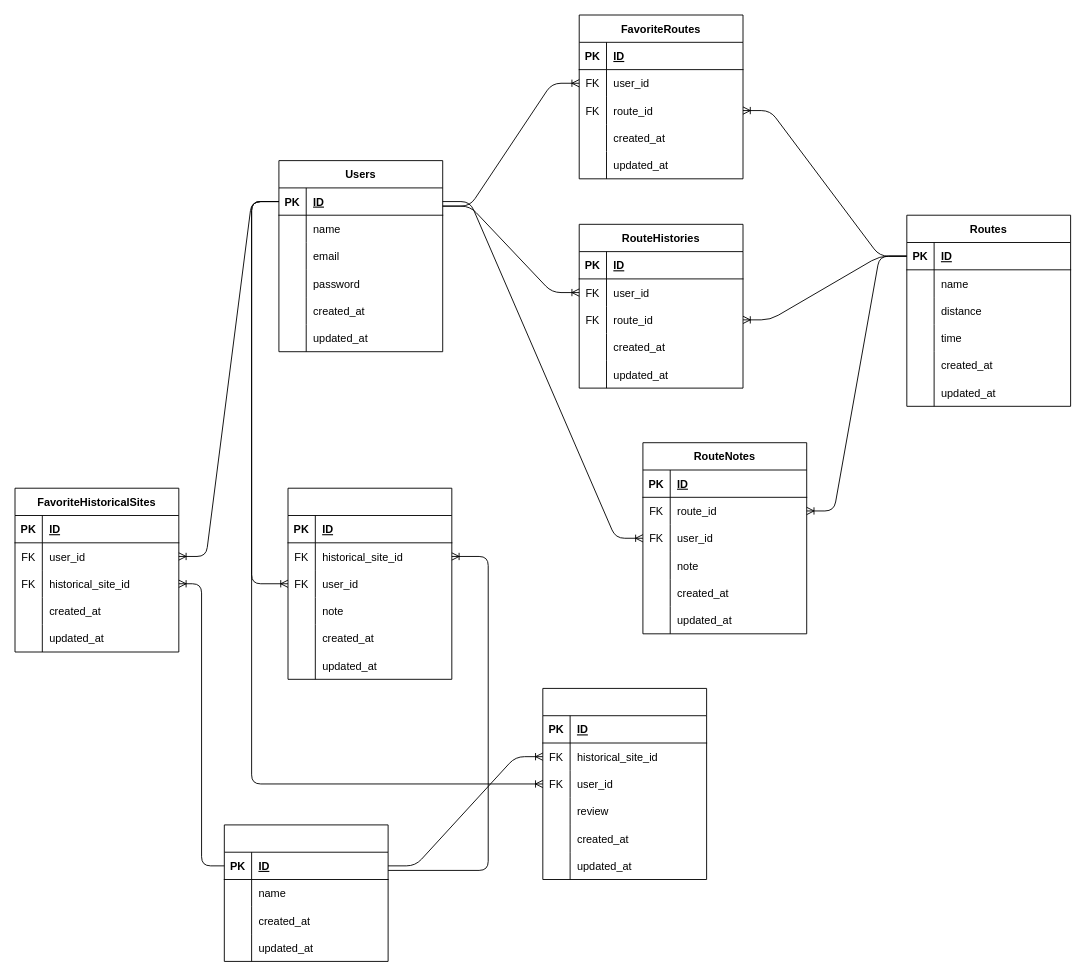
Some shapes in this 1086 by 976 pixel diagram are drawn without their labels. Each missing label, with the box of its shape:
HistoricalSites: (223, 824, 388, 961)
HistoricalSitesNotes: (287, 487, 452, 679)
HistoricalSitesReviews: (542, 688, 707, 880)
